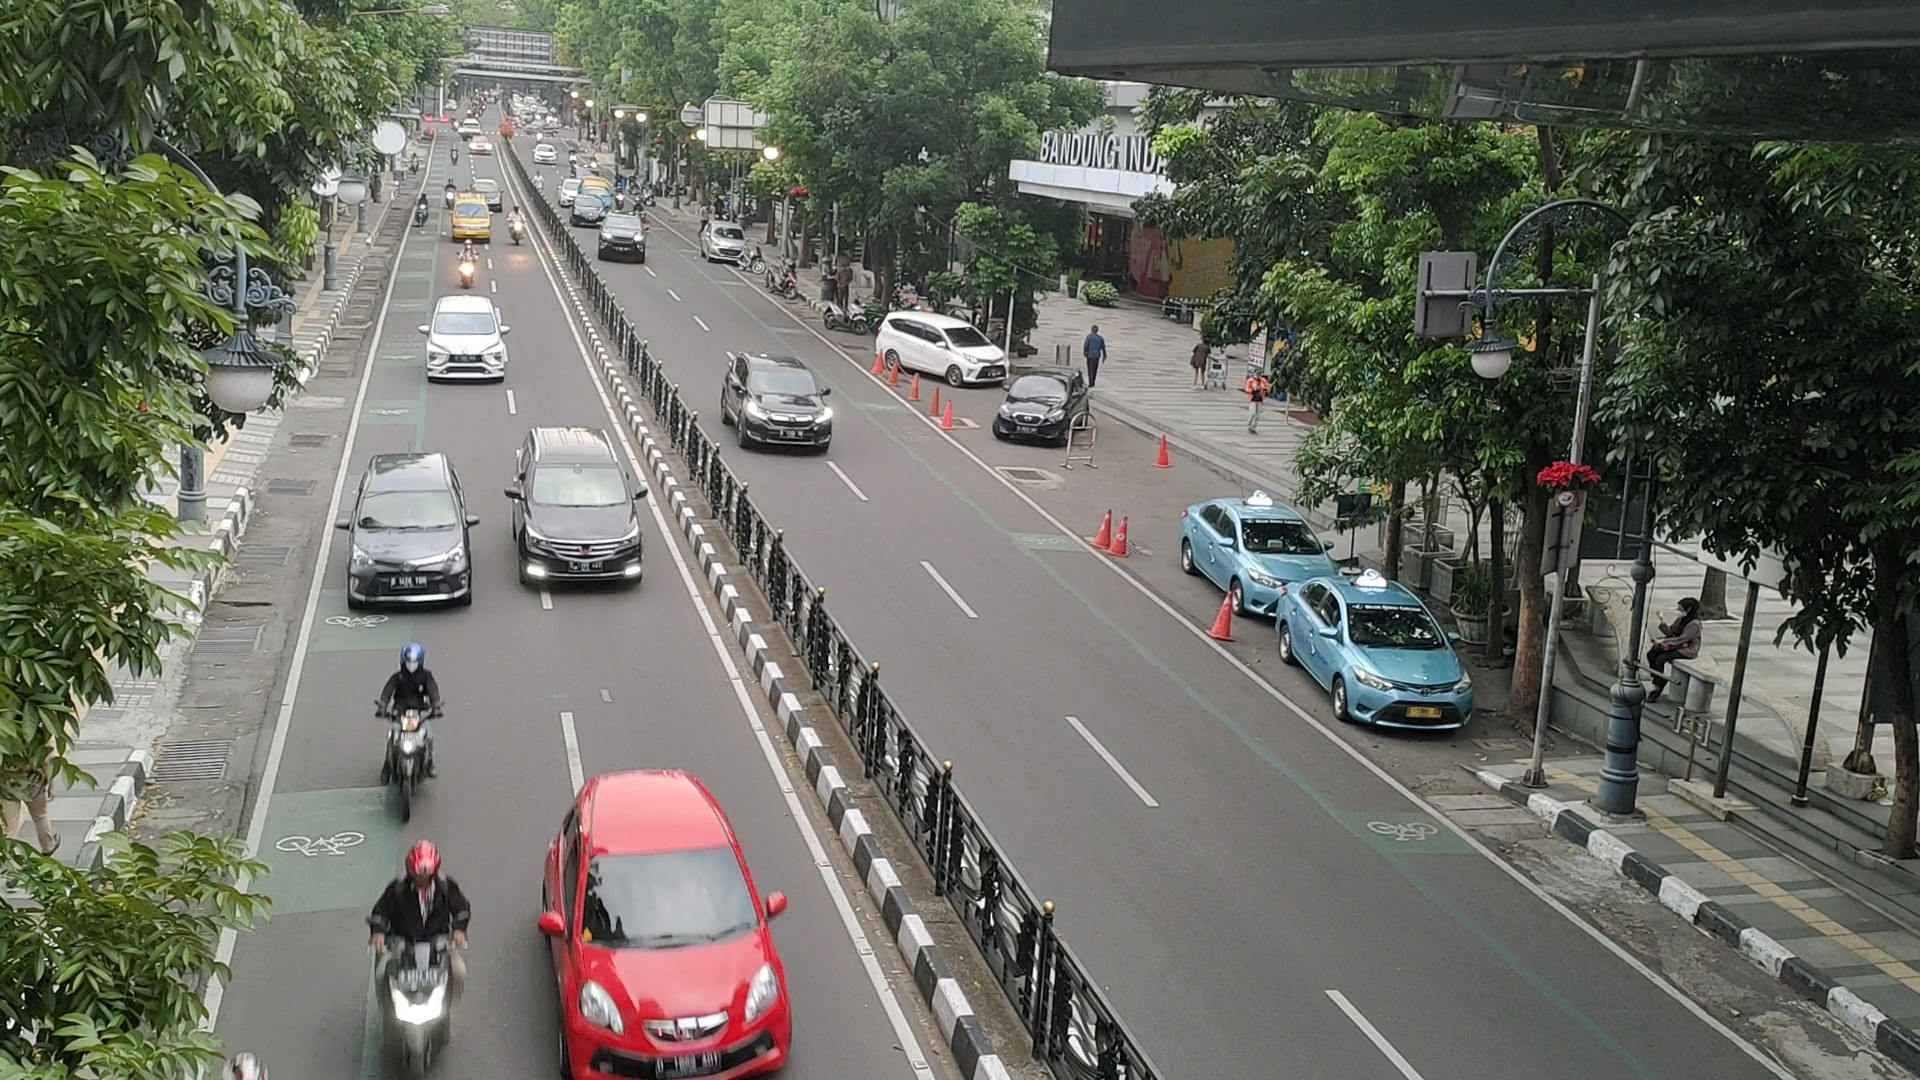mobil: (563, 837, 796, 1080), (1337, 600, 1473, 738), (520, 460, 646, 597), (338, 487, 477, 611), (738, 364, 837, 456), (419, 303, 513, 392), (996, 377, 1077, 447), (945, 322, 1007, 388)
motor: (355, 828, 498, 1080), (345, 628, 481, 831)
